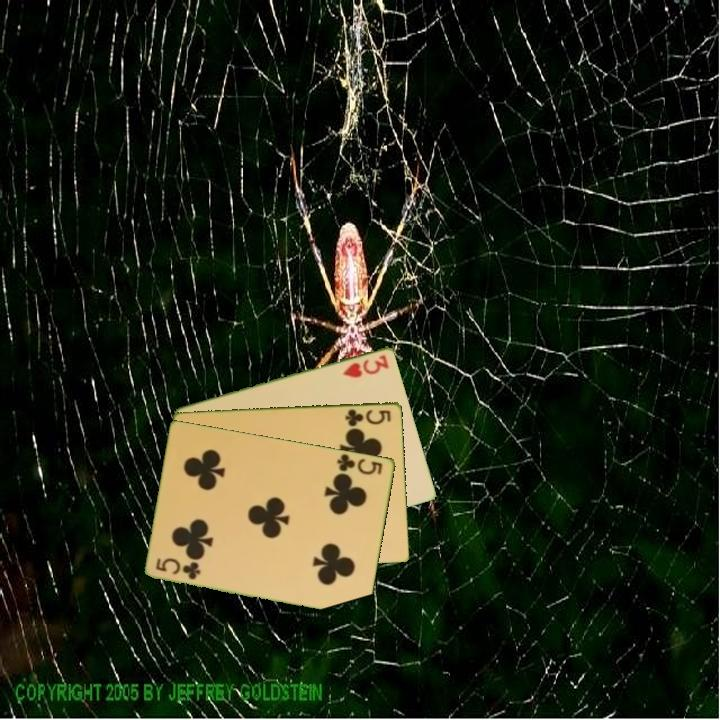3h: (339, 351, 392, 380)
5c: (334, 450, 385, 478), (153, 554, 204, 582), (342, 405, 394, 429)
